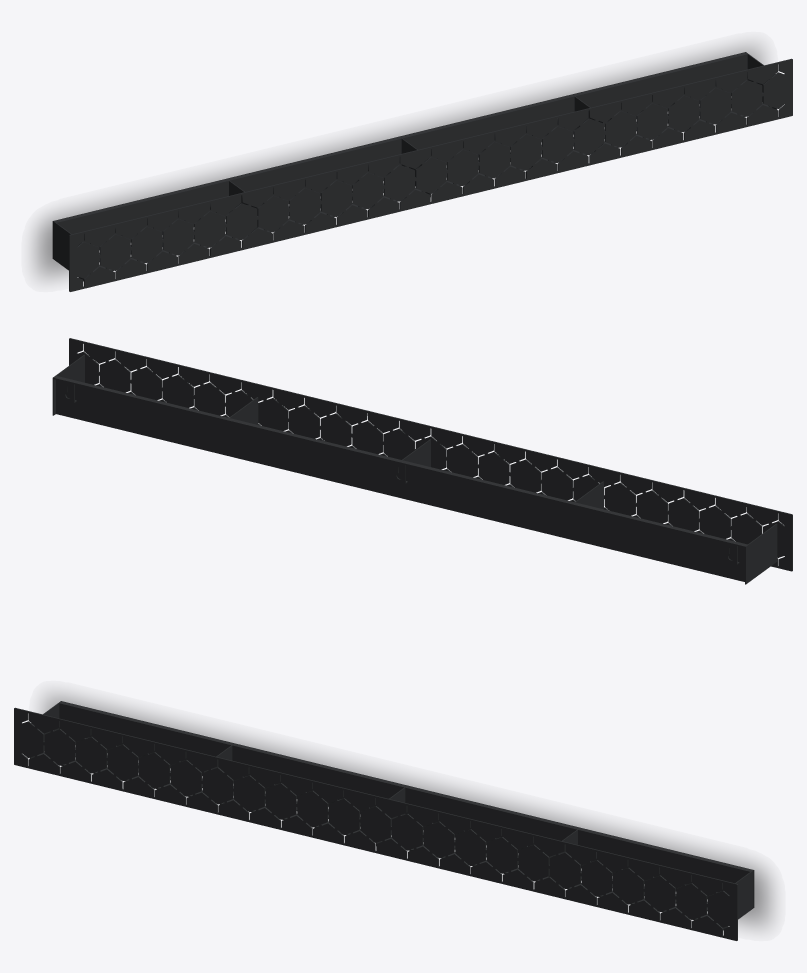
The model's file is bee-mono.9f515f8d4e.ar.glb.
The picture shows the model from 3 angles, top to bottom: view 1: azimuth 30°, elevation 25°; view 2: azimuth 150°, elevation 25°; view 3: azimuth 330°, elevation 25°; orthographic projection.
Visible parts, largest first — view 1: NAUO1, object 2; view 2: NAUO1; view 3: NAUO1, object 2.
Part boxes in pixels (<box>): NAUO1: <box>52,52,792,291</box>; object 2: <box>33,45,765,278</box>; NAUO1: <box>52,338,792,584</box>; NAUO1: <box>14,701,754,940</box>; object 2: <box>41,694,773,927</box>.
Size of the model in its own units: 1.28 by 0.17 by 0.092.
2 materials, 1 textured.
